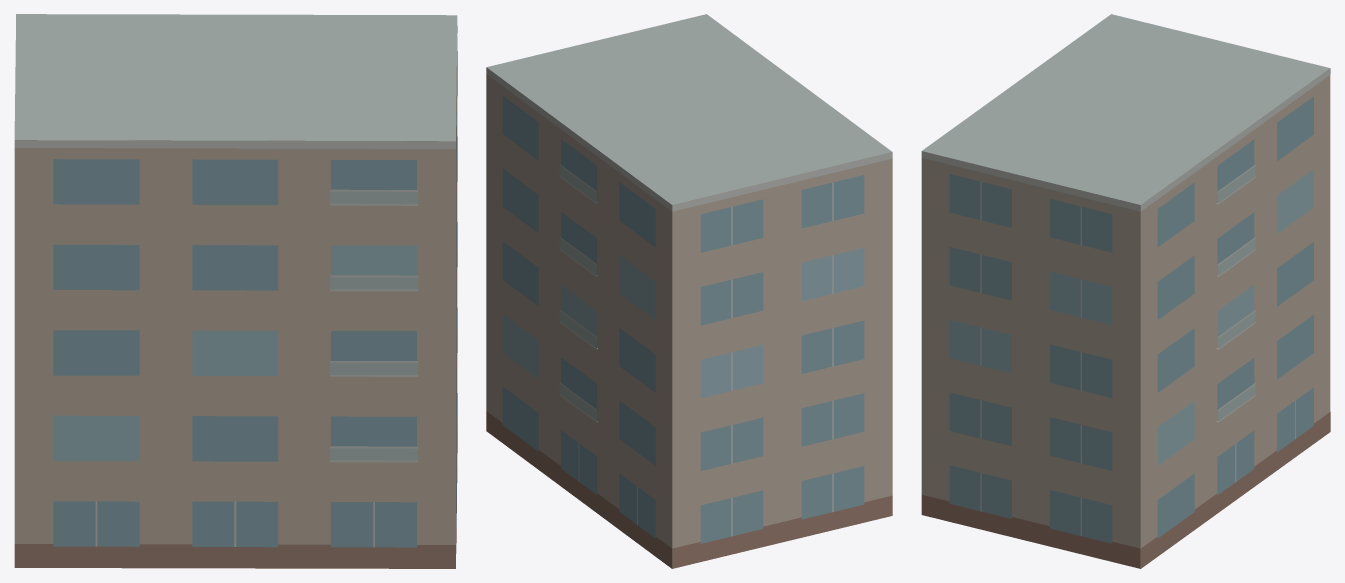
Rendered from survey-upis-32970752.glb.
The picture shows the model from 3 angles, left to right: view 1: azimuth 30°, elevation 25°; view 2: azimuth 150°, elevation 25°; view 3: azimuth 270°, elevation 25°; orthographic projection. The views are drawn at different scales.
Parts seen in each view (by area): view 1: survey-upis-32970752.tmp; view 2: survey-upis-32970752.tmp; view 3: survey-upis-32970752.tmp.
Boxes of the visible parts, bbox=[...] form: survey-upis-32970752.tmp: bbox=[14, 14, 457, 568]; survey-upis-32970752.tmp: bbox=[486, 14, 892, 568]; survey-upis-32970752.tmp: bbox=[921, 14, 1330, 568].
Size of the model in its own units: 14.93 by 13.25 by 13.5.
